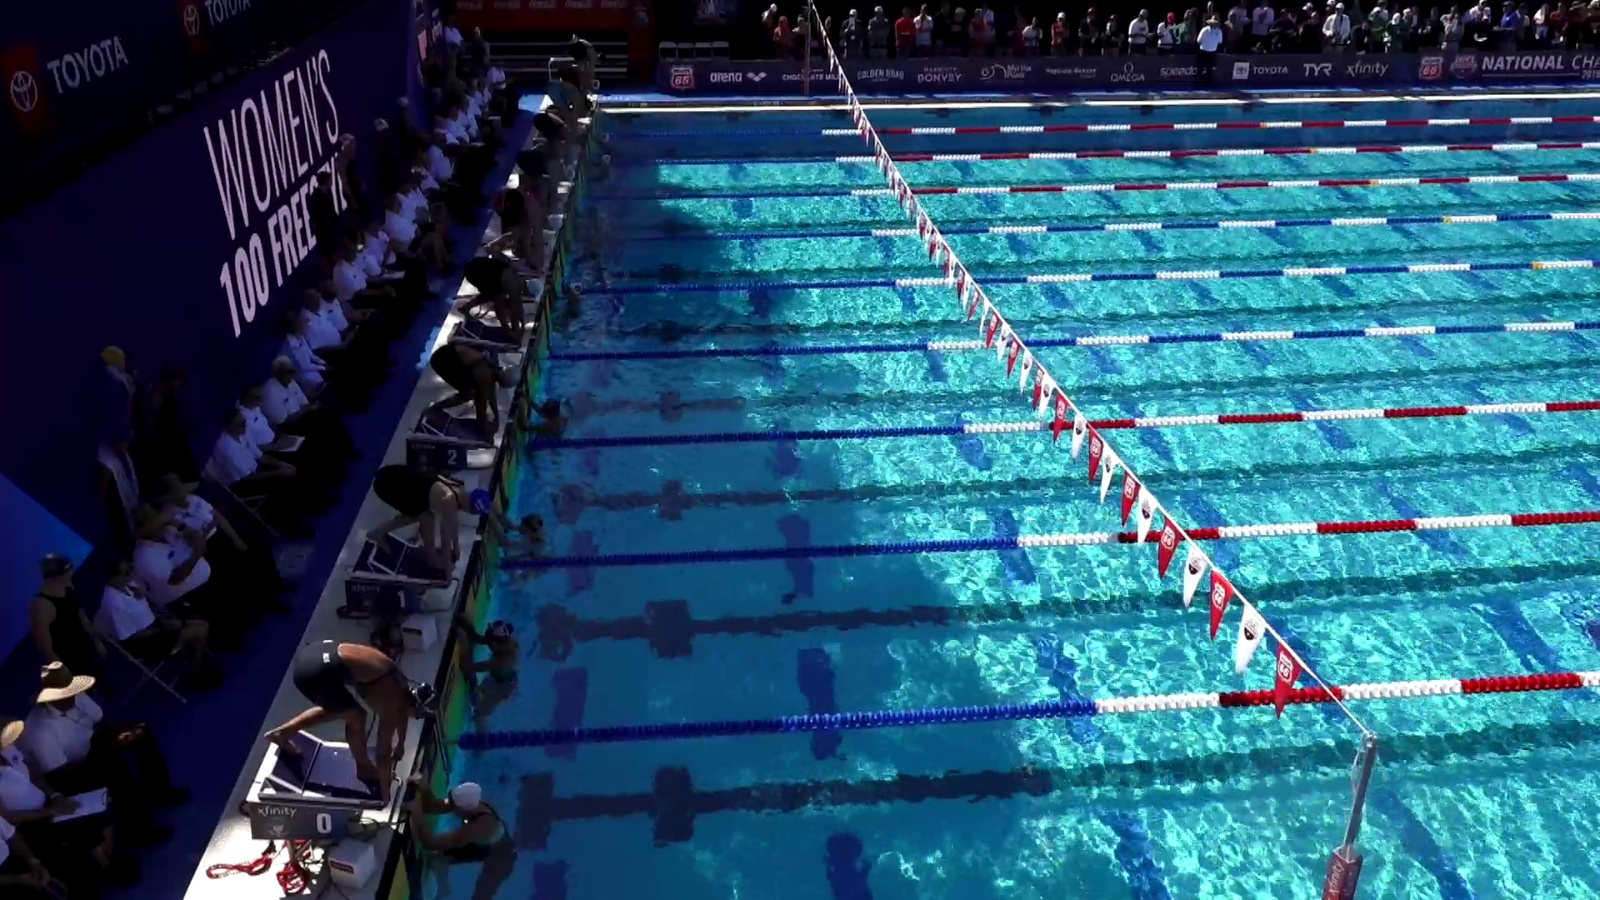swimmerw: (267, 642, 438, 792), (369, 465, 488, 569), (419, 791, 516, 900), (433, 347, 524, 435), (465, 258, 541, 329), (487, 190, 565, 256), (470, 623, 523, 719), (497, 515, 554, 581), (516, 147, 573, 204), (530, 404, 570, 469), (549, 277, 586, 338), (544, 80, 593, 122), (533, 114, 584, 149), (560, 73, 600, 104), (571, 205, 603, 241), (586, 130, 615, 166), (592, 156, 614, 185)
